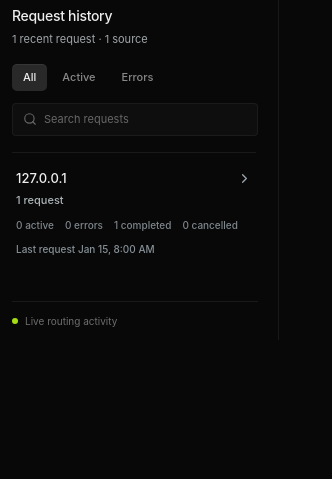
Test: preserves console-test identity as request context without substituting it for a source
Expected: the text "127.0.0.1" is shown, [16,170,67,186]
Expected: the text "Operator test · Console test" is not shown
Click the button that starts with "request". click: (134, 214)
box: [12,160,256,267]
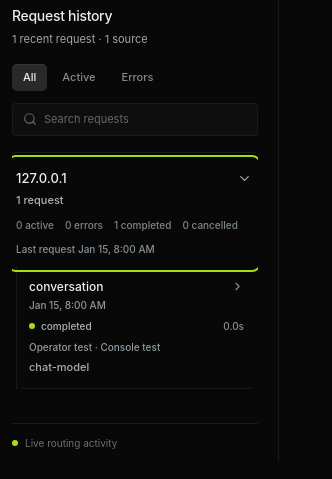
Expected: the text "127.0.0.1" is shown once, [16,170,67,186]
Expected: the text "Operator test · Console test" is shown, [29,341,160,353]
